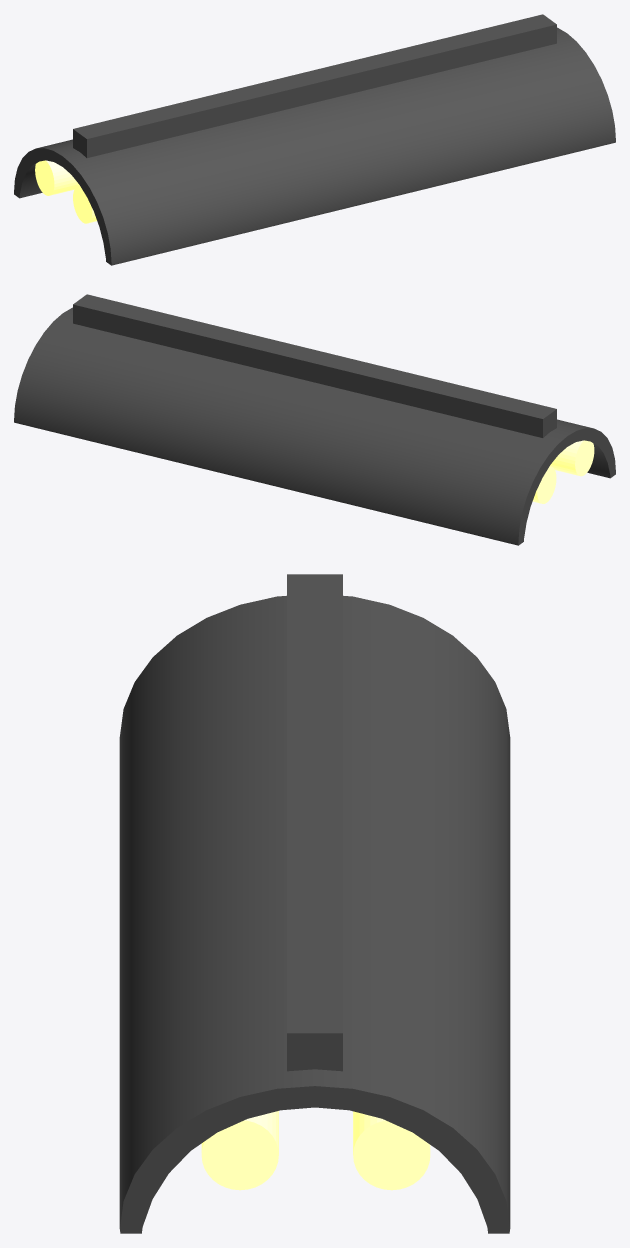
The model's file is lampa.fbx.
3 renders of one model, top to bottom at view 1: azimuth 30°, elevation 25°; view 2: azimuth 150°, elevation 25°; view 3: azimuth 270°, elevation 25°, orthographic. The views are drawn at different scales.
Visible parts, largest first — view 1: Cylinder, Cube, Cylinder.002, Cylinder.001; view 2: Cylinder, Cube, Cylinder.001, Cylinder.002; view 3: Cylinder, Cube, Cylinder.001, Cylinder.002.
Part boxes in pixels (bbox=[...]): Cylinder: bbox=[14, 27, 615, 265]; Cube: bbox=[73, 14, 556, 157]; Cylinder.002: bbox=[35, 160, 79, 195]; Cylinder.001: bbox=[73, 185, 96, 223]; Cylinder: bbox=[14, 307, 615, 545]; Cube: bbox=[73, 294, 556, 437]; Cylinder.001: bbox=[550, 440, 594, 476]; Cylinder.002: bbox=[532, 466, 556, 503]; Cylinder: bbox=[119, 595, 510, 1233]; Cube: bbox=[287, 574, 342, 1071]; Cylinder.001: bbox=[201, 1111, 278, 1190]; Cylinder.002: bbox=[353, 1111, 430, 1190].
Size of the model in its own units: 738 by 128 by 247.
